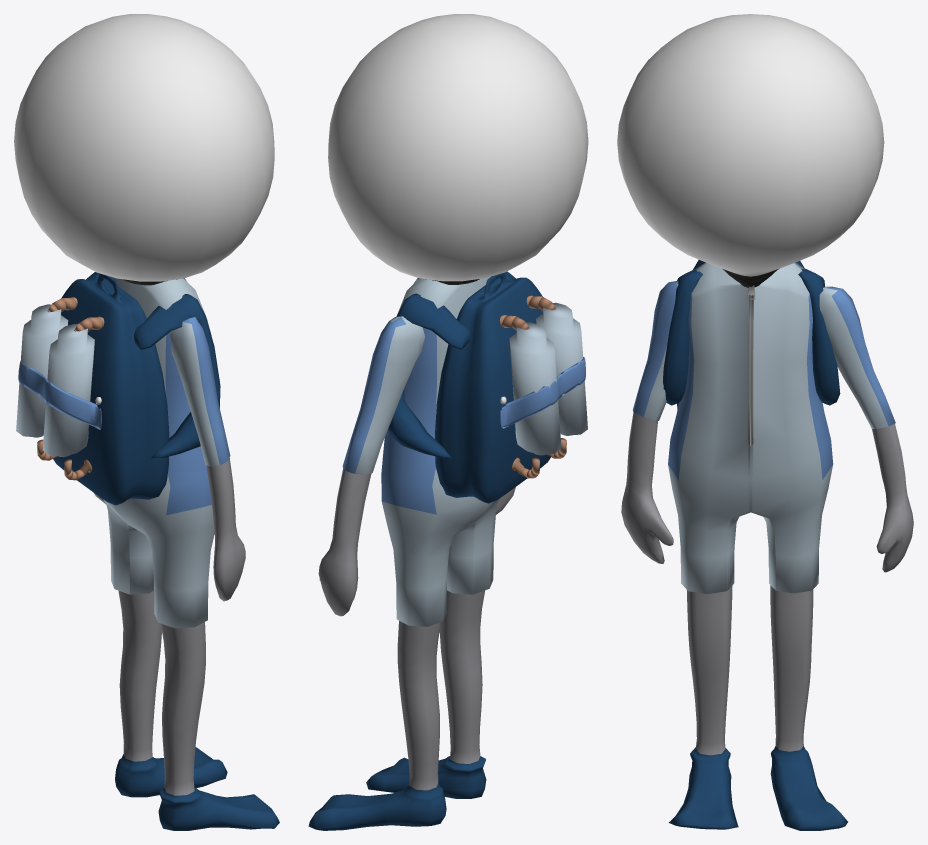
File: layne2.fbx
The picture shows the model from 3 angles, left to right: view 1: azimuth 30°, elevation 25°; view 2: azimuth 150°, elevation 25°; view 3: azimuth 270°, elevation 25°; orthographic projection. The views are drawn at different scales.
Parts seen in each view (by area): view 1: Sphere, body, body.001, backpack1, Cylinder, arm1.001, arm1, backpack2, silk, Cylinder.001, Cylinder.002; view 2: Sphere, body, body.001, backpack1, Cylinder, arm1.001, arm1, backpack2, silk, Cylinder.001, Cylinder.002; view 3: Sphere, body.001, body, arm1, arm1.001, backpack2.
Part boxes in pixels (x1=…): Sphere: x1=14, y1=14, x2=274, y2=285; body: x1=115, y1=590, x2=279, y2=830; body.001: x1=103, y1=277, x2=214, y2=628; backpack1: x1=53, y1=273, x2=169, y2=505; Cylinder: x1=16, y1=304, x2=94, y2=457; arm1.001: x1=170, y1=317, x2=230, y2=466; arm1: x1=93, y1=458, x2=245, y2=601; backpack2: x1=86, y1=272, x2=220, y2=458; silk: x1=18, y1=361, x2=101, y2=429; Cylinder.001: x1=47, y1=297, x2=104, y2=331; Cylinder.002: x1=37, y1=439, x2=92, y2=480; Sphere: x1=328, y1=14, x2=588, y2=284; body: x1=308, y1=590, x2=486, y2=830; body.001: x1=381, y1=276, x2=499, y2=626; backpack1: x1=435, y1=272, x2=550, y2=503; Cylinder: x1=509, y1=302, x2=587, y2=455; arm1.001: x1=342, y1=316, x2=424, y2=474; arm1: x1=318, y1=468, x2=515, y2=616; backpack2: x1=388, y1=271, x2=515, y2=457; silk: x1=500, y1=357, x2=585, y2=428; Cylinder.001: x1=499, y1=295, x2=556, y2=329; Cylinder.002: x1=512, y1=438, x2=566, y2=478; Sphere: x1=617, y1=14, x2=884, y2=287; body.001: x1=668, y1=262, x2=833, y2=593; body: x1=668, y1=585, x2=847, y2=830; arm1: x1=621, y1=412, x2=913, y2=572; arm1.001: x1=632, y1=281, x2=895, y2=428; backpack2: x1=663, y1=268, x2=840, y2=405.
Size of the model in its own units: 307 by 1043 by 368.
